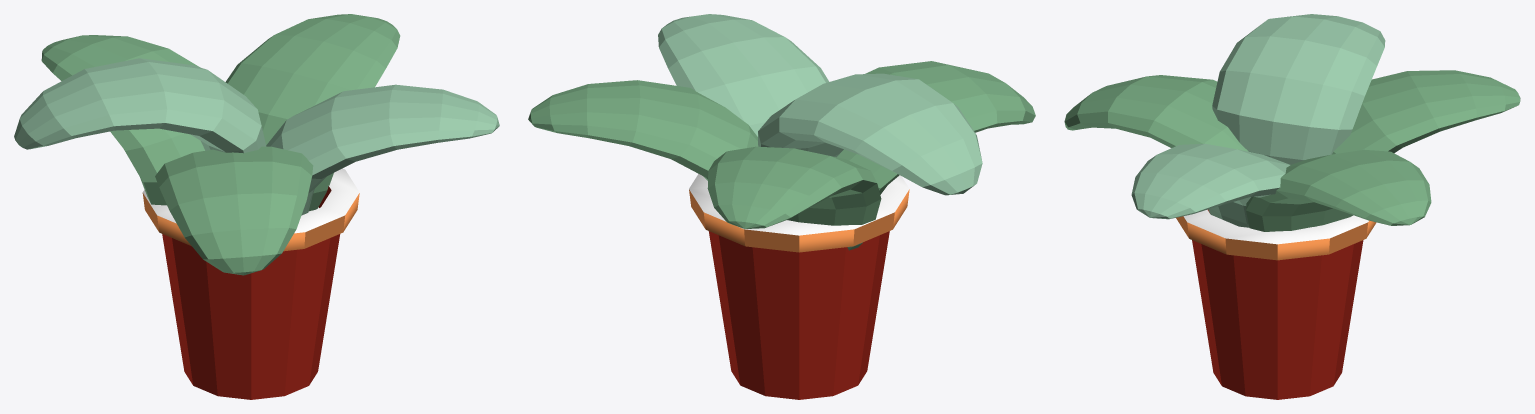
The model's file is potted_plant03.fbx.
3 renders of one model, left to right at view 1: azimuth 30°, elevation 25°; view 2: azimuth 150°, elevation 25°; view 3: azimuth 270°, elevation 25°, orthographic. The views are drawn at different scales.
Visible parts, largest first — view 1: potted_plant03; view 2: potted_plant03; view 3: potted_plant03.
Part boxes in pixels (box(x1,y1,x2,y2)): potted_plant03: box(14, 14, 499, 399); potted_plant03: box(528, 14, 1035, 399); potted_plant03: box(1064, 14, 1520, 399).
Bounding box in the file's own units: 1.5 × 1.09 × 1.52.
